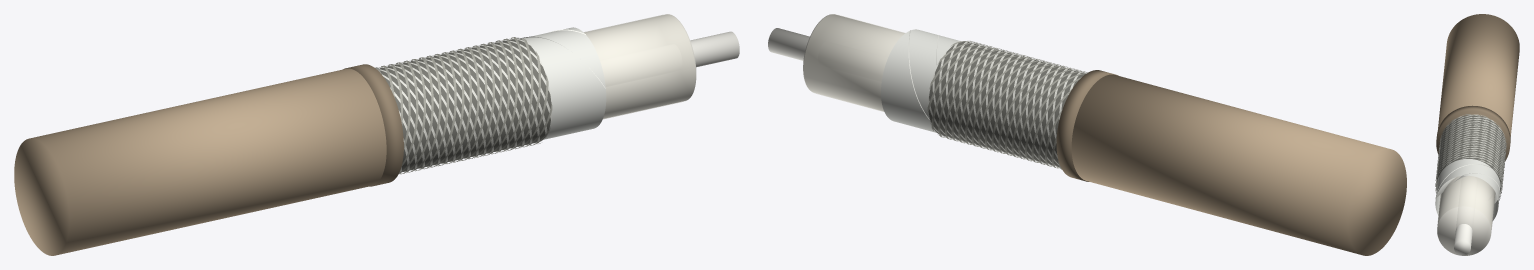
Rendered from rf-multiflex141.glb.
The picture shows the model from 3 angles, left to right: view 1: azimuth 30°, elevation 25°; view 2: azimuth 150°, elevation 25°; view 3: azimuth 270°, elevation 25°; orthographic projection. The views are drawn at different scales.
Visible parts, largest first — view 1: matte black pvc jacket body, braid dark diamond recess, gas injected foam dielectric, smooth dielectric skin, duobond foil sleeve, jacket cut lip, solid center conductor continuous, braid left hand woven carrier 01, braid left hand woven carrier 12, braid left hand woven carrier 02, braid left hand woven carrier 11, braid left hand woven carrier 03 (+11 smaller); view 2: matte black pvc jacket body, braid dark diamond recess, gas injected foam dielectric, smooth dielectric skin, duobond foil sleeve, jacket cut lip, solid center conductor continuous, braid left hand woven carrier 09, braid left hand woven carrier 08, braid left hand woven carrier 10, braid left hand woven carrier 07, braid left hand woven carrier 06 (+12 smaller); view 3: matte black pvc jacket body, gas injected foam dielectric, braid dark diamond recess, smooth dielectric skin, duobond foil sleeve, jacket cut lip, solid center conductor continuous, subtle foil wrap lap, braid left hand woven carrier 10, braid left hand woven carrier 11, braid left hand woven carrier 12, braid left hand woven carrier 09 (+20 smaller).
Boxes of the visible parts, x1,y1,x2,y2 form: matte black pvc jacket body: [14, 68, 386, 255]; braid dark diamond recess: [379, 38, 551, 171]; gas injected foam dielectric: [584, 14, 696, 118]; smooth dielectric skin: [584, 14, 695, 119]; duobond foil sleeve: [521, 27, 606, 139]; jacket cut lip: [343, 64, 403, 186]; solid center conductor continuous: [690, 31, 739, 67]; braid left hand woven carrier 01: [400, 37, 525, 174]; braid left hand woven carrier 12: [399, 38, 517, 173]; braid left hand woven carrier 02: [400, 38, 533, 173]; braid left hand woven carrier 11: [401, 40, 510, 166]; braid left hand woven carrier 03: [408, 51, 540, 172]; matte black pvc jacket body: [1071, 74, 1406, 255]; braid dark diamond recess: [928, 41, 1085, 166]; gas injected foam dielectric: [803, 14, 904, 111]; smooth dielectric skin: [804, 14, 905, 111]; duobond foil sleeve: [881, 29, 960, 132]; jacket cut lip: [1056, 70, 1118, 181]; solid center conductor continuous: [768, 28, 809, 60]; braid left hand woven carrier 09: [938, 50, 1086, 159]; braid left hand woven carrier 08: [945, 51, 1086, 161]; braid left hand woven carrier 10: [931, 48, 1087, 157]; braid left hand woven carrier 07: [951, 53, 1081, 162]; braid left hand woven carrier 06: [958, 55, 1071, 164]; matte black pvc jacket body: [1438, 14, 1519, 136]; gas injected foam dielectric: [1437, 175, 1495, 255]; braid dark diamond recess: [1436, 115, 1505, 195]; smooth dielectric skin: [1437, 176, 1495, 229]; duobond foil sleeve: [1435, 159, 1500, 221]; jacket cut lip: [1436, 105, 1510, 161]; solid center conductor continuous: [1454, 224, 1472, 255]; subtle foil wrap lap: [1435, 164, 1500, 203]; braid left hand woven carrier 10: [1436, 121, 1505, 199]; braid left hand woven carrier 11: [1436, 123, 1504, 189]; braid left hand woven carrier 12: [1436, 125, 1504, 180]; braid left hand woven carrier 09: [1438, 118, 1505, 192].
Bounding box in the file's own units: 6.52 × 1.01 × 1.16.
